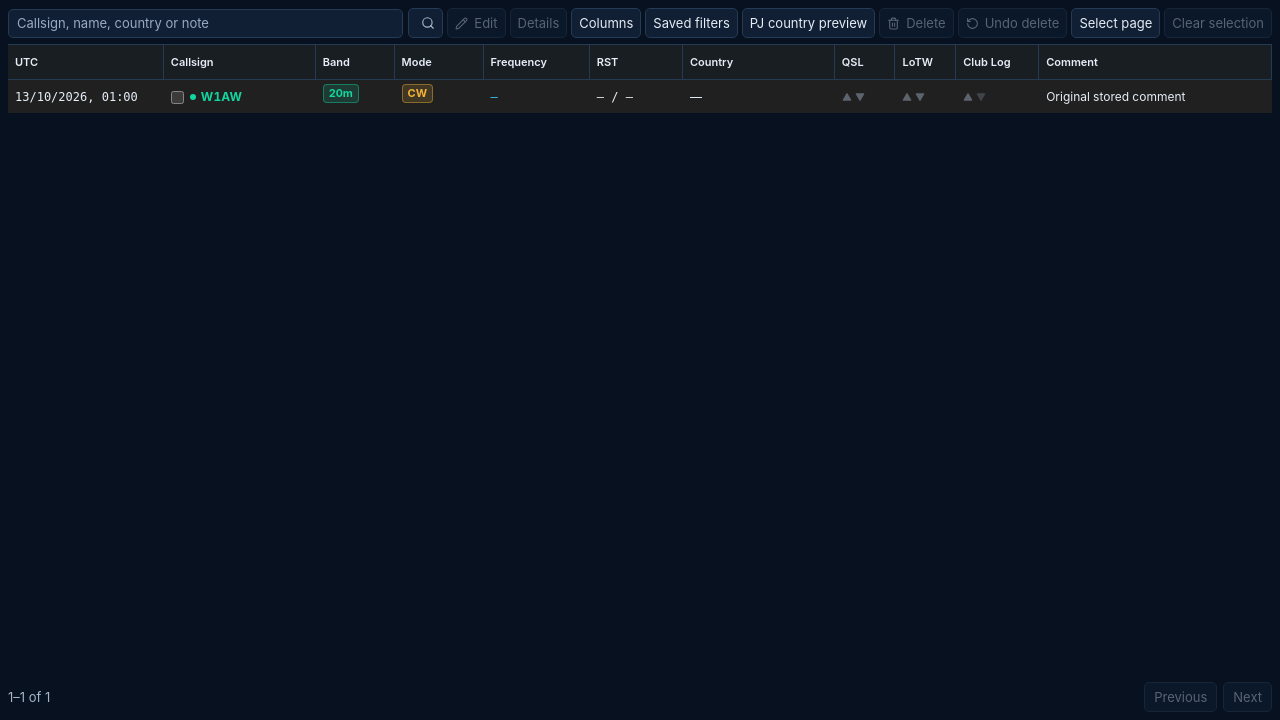
Test: opens a direct-menu Logbook with only a compact task toolbar above the table
Expected: the text "W1AW" is shown, [164,80,316,113]
Expected: the button "Edit" is shown, [447,8,506,38]
Click the button "Select page". click: (1116, 23)
box: [1071,8,1160,38]
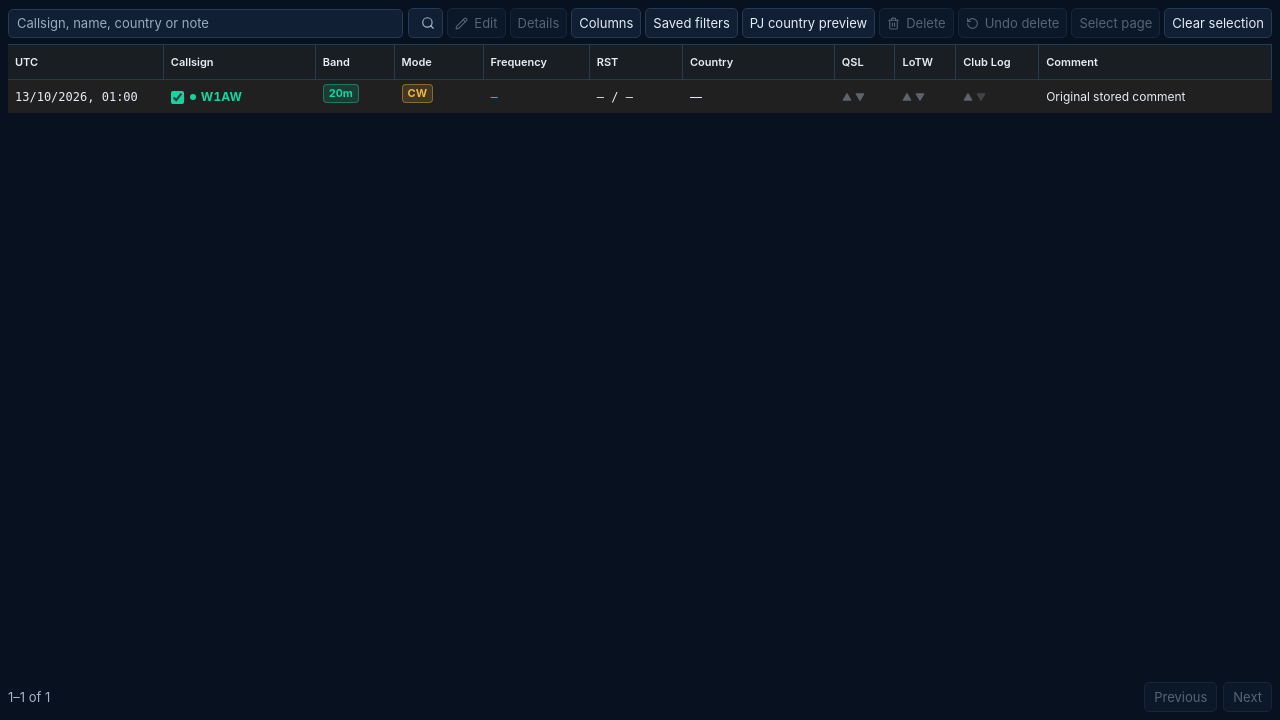
Expected: the checkbox named "for export" is checked, [171,91,184,104]
Click the button "Clear selection". click: (1218, 23)
box: [1164,8,1272,38]
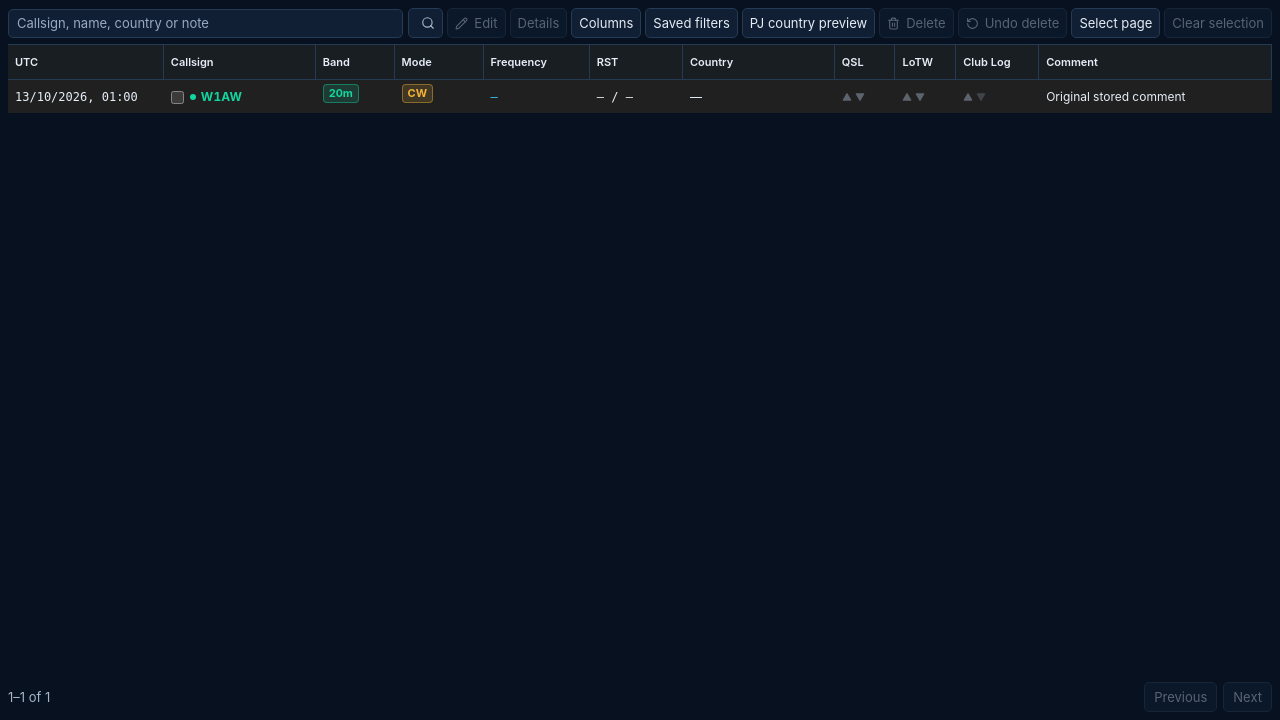
Expected: the checkbox named "for export" is not checked, [171,91,184,104]
